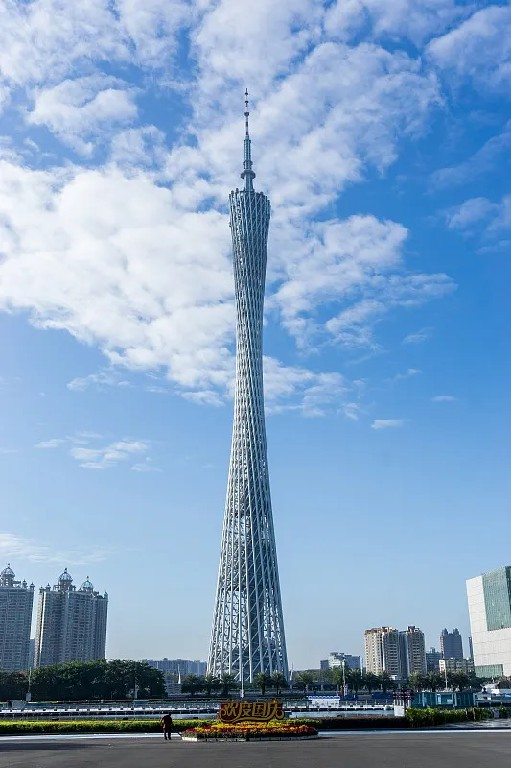Canton: (202, 86, 293, 686)
